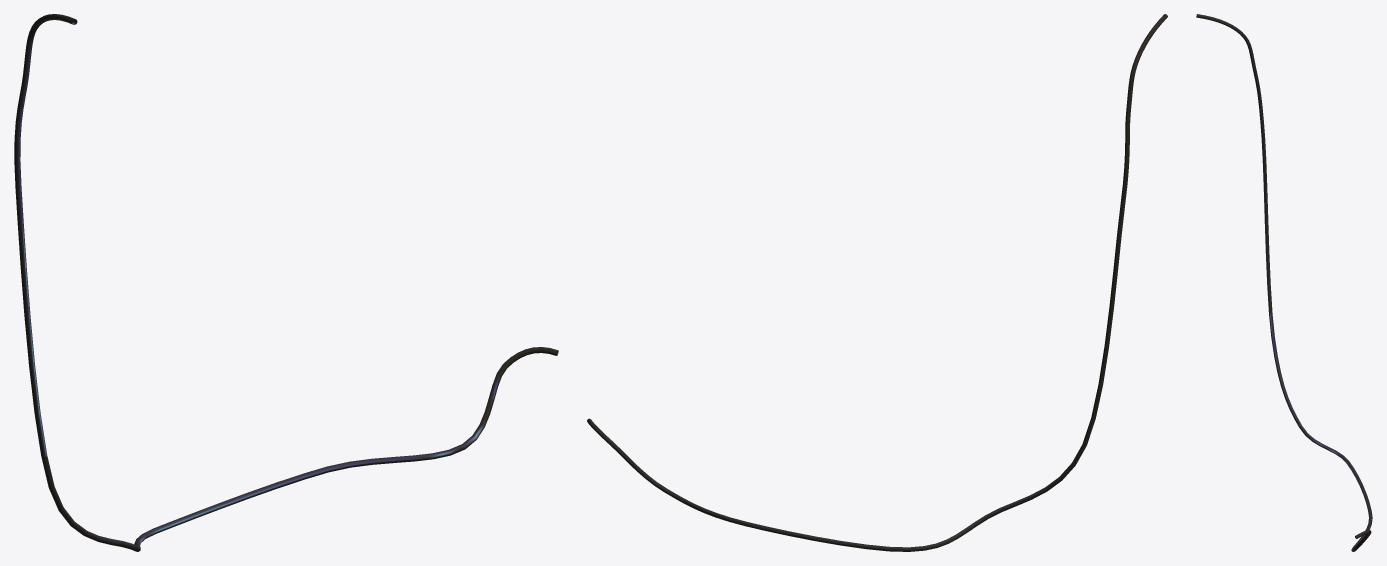
File: Julebu_Xian5_fbx.FBX
3 views of the same model, side by side, from view 1: azimuth 30°, elevation 25°; view 2: azimuth 150°, elevation 25°; view 3: azimuth 270°, elevation 25° (orthographic). The views are drawn at different scales.
Visible parts, largest first — view 1: Line008; view 2: Line008; view 3: Line008.
Part boxes in pixels (x1,y1,x2,y2): Line008: (14,14,558,551); Line008: (587,14,1167,551); Line008: (1196,14,1372,551).
Bounding box in the file's own units: 2.73 × 2.75 × 1.12.
